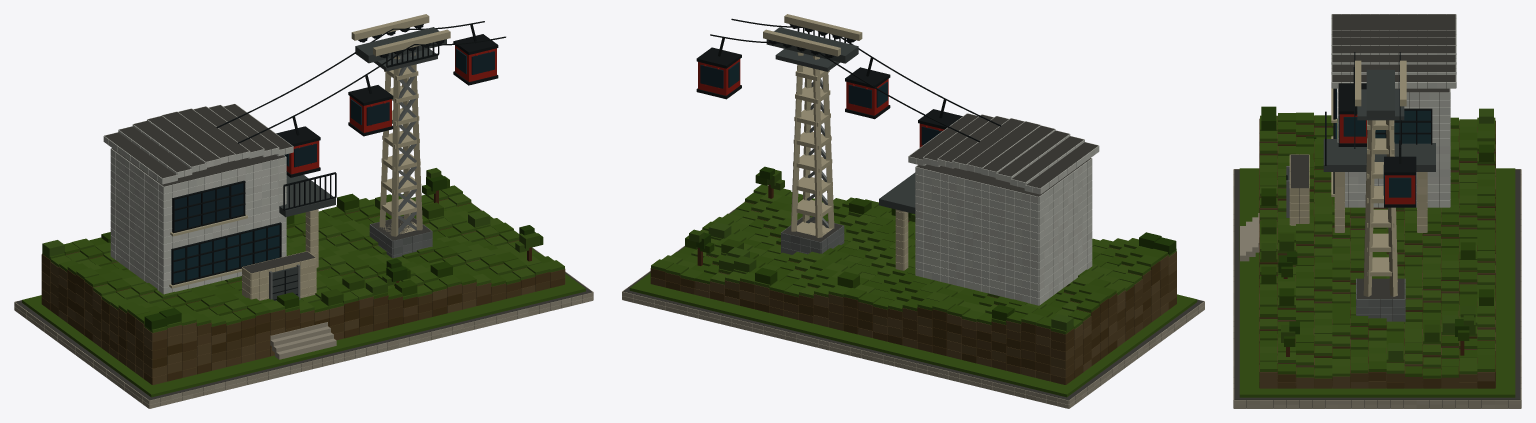
The model's file is SM_Mapa_059.fbx.
3 views of the same model, side by side, from view 1: azimuth 30°, elevation 25°; view 2: azimuth 150°, elevation 25°; view 3: azimuth 270°, elevation 25° (orthographic). The views are drawn at different scales.
Visible parts, largest first — view 1: SM_Mapa_059; view 2: SM_Mapa_059; view 3: SM_Mapa_059.
Part boxes in pixels (box(x1,y1,x2,y2)): SM_Mapa_059: box(14, 14, 593, 408); SM_Mapa_059: box(622, 14, 1204, 408); SM_Mapa_059: box(1233, 14, 1521, 408).
Bounding box in the file's own units: 40 × 21.07 × 21.34.
